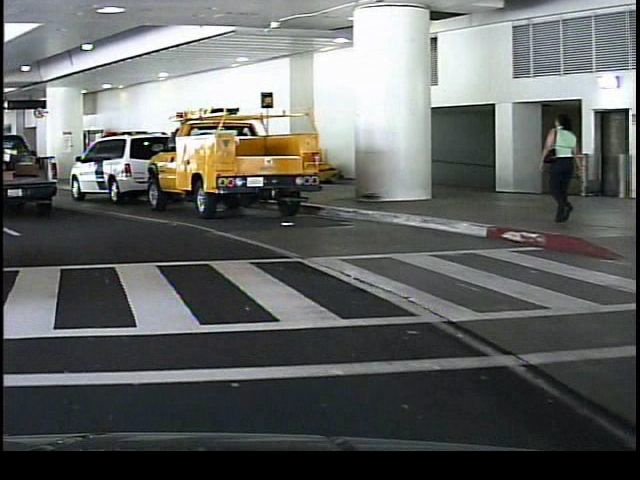person: (532, 112, 583, 229)
